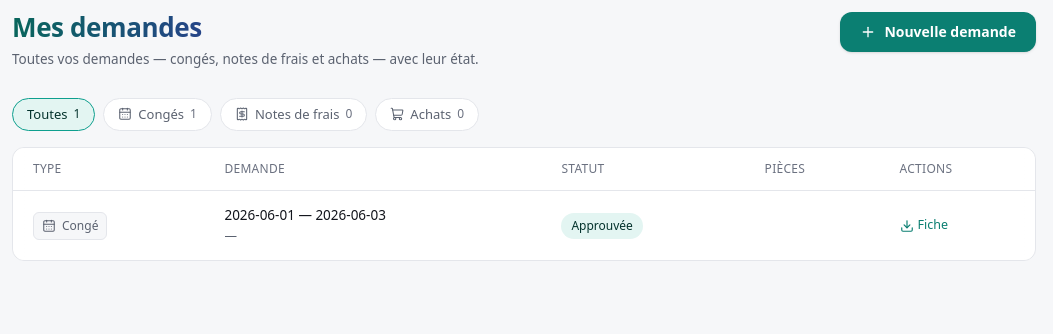
it: MesDemandesPage — congés › échec du téléchargement de la fiche : erreur affichée
Click the button "Fiche" at [924, 226], box [900,216,948,235]
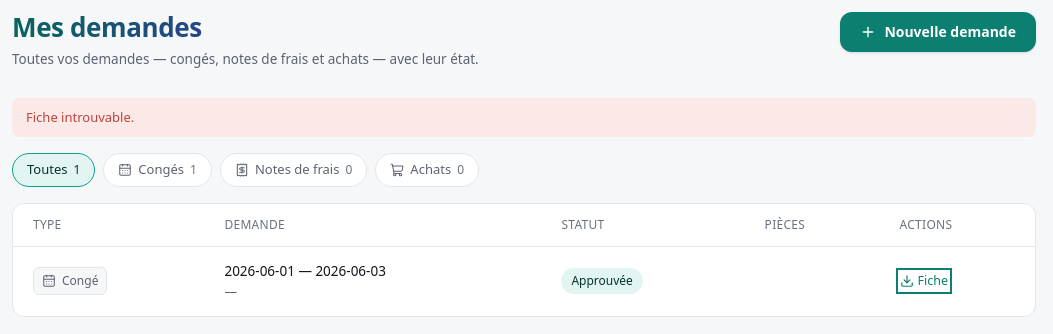
Check: the text "Fiche introuvable." is shown, box [12,98,1036,137]
